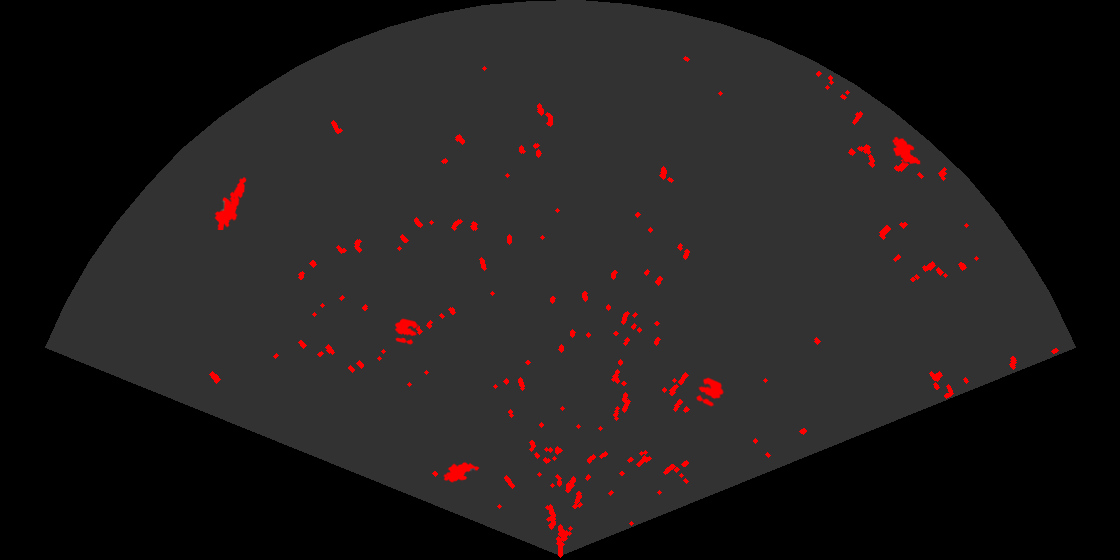AUV: (891, 135, 922, 166), (442, 460, 481, 484)
ball: (694, 376, 726, 408), (393, 317, 420, 346)
frogman: (213, 175, 248, 230)
